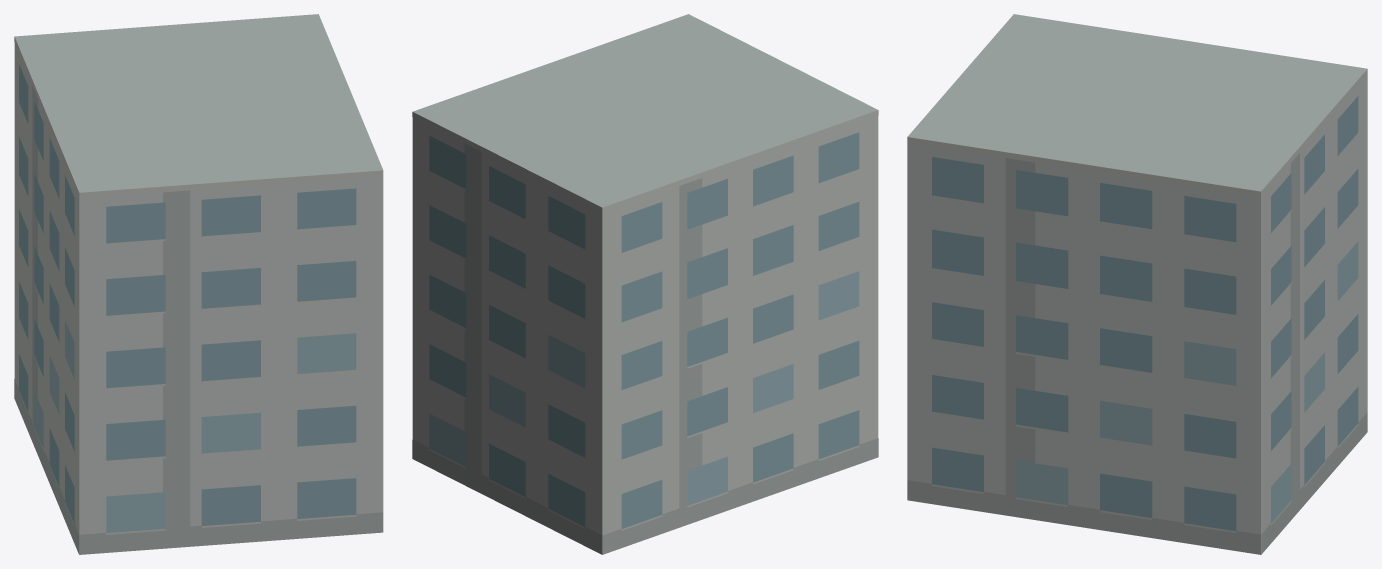
File: residential-8322a604-da66-46f2-aba9-25fda4bcae01.glb
The picture shows the model from 3 angles, left to right: view 1: azimuth 30°, elevation 25°; view 2: azimuth 150°, elevation 25°; view 3: azimuth 270°, elevation 25°; orthographic projection. The views are drawn at different scales.
Parts seen in each view (by area): view 1: residential-8322a604-da66-46f2-aba9-25fda4bcae01.tmp; view 2: residential-8322a604-da66-46f2-aba9-25fda4bcae01.tmp; view 3: residential-8322a604-da66-46f2-aba9-25fda4bcae01.tmp.
Boxes of the visible parts, box(x1,y1,x2,y2) form: residential-8322a604-da66-46f2-aba9-25fda4bcae01.tmp: box(14, 14, 383, 554); residential-8322a604-da66-46f2-aba9-25fda4bcae01.tmp: box(412, 14, 878, 554); residential-8322a604-da66-46f2-aba9-25fda4bcae01.tmp: box(907, 14, 1367, 554).
Bounding box in the file's own units: 15.99 × 15.25 × 17.52.
